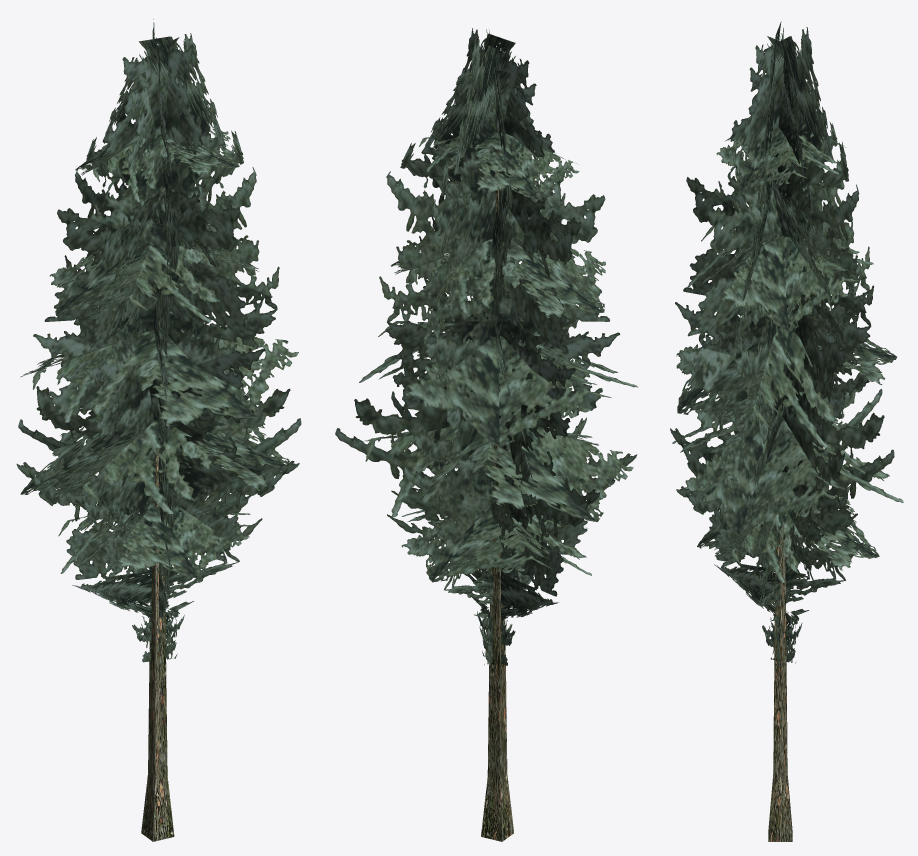
File: pinetree04.obj
3 views of the same model, side by side, from view 1: azimuth 30°, elevation 25°; view 2: azimuth 150°, elevation 25°; view 3: azimuth 270°, elevation 25° (orthographic).
Visible parts, largest first — view 1: pinetree04; view 2: pinetree04; view 3: pinetree04.
Part boxes in pixels (x1=…): pinetree04: x1=16, y1=19, x2=301, y2=841; pinetree04: x1=335, y1=28, x2=638, y2=841; pinetree04: x1=670, y1=21, x2=903, y2=841.
Bounding box in the file's own units: 9.13 × 27.39 × 7.16.
